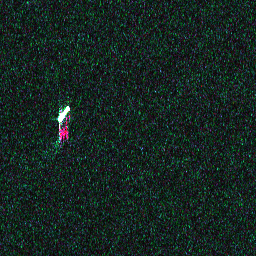ship: (54, 103, 72, 124)
